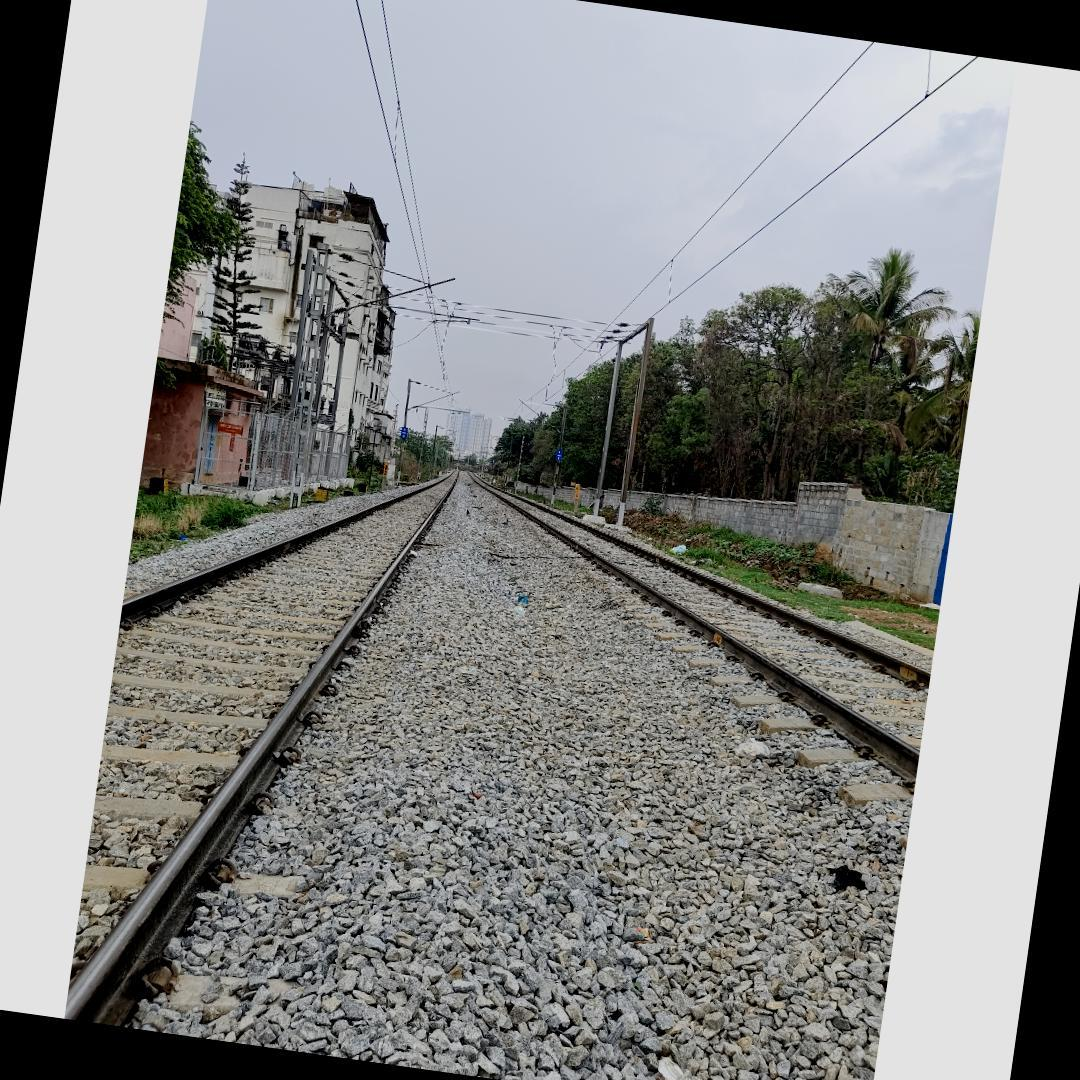track: (64, 464, 469, 1026), (479, 490, 933, 875)
